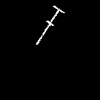double_crochet: (37, 6, 63, 43)
